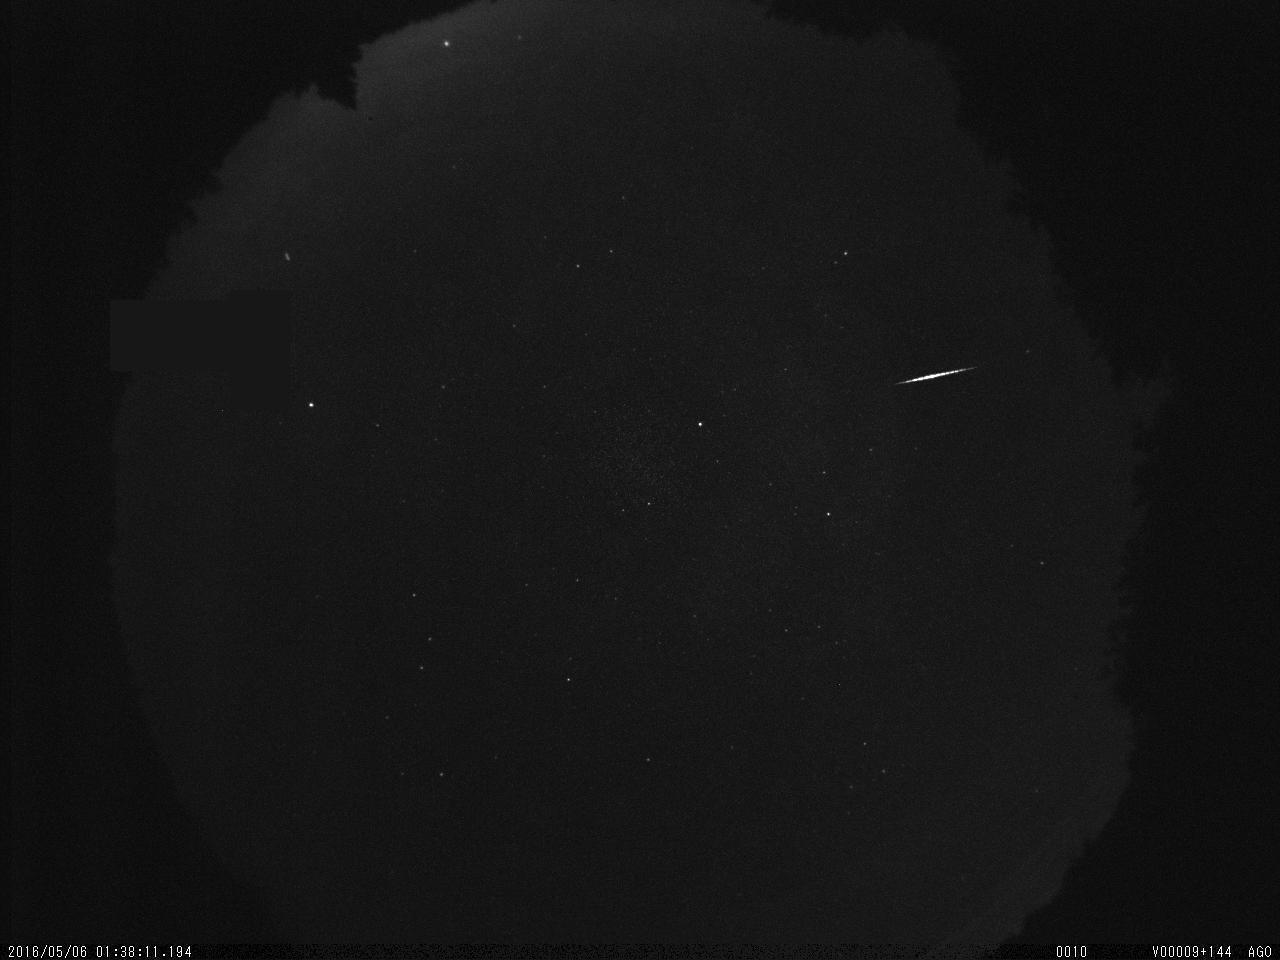Meteor: (891, 358, 985, 396)
